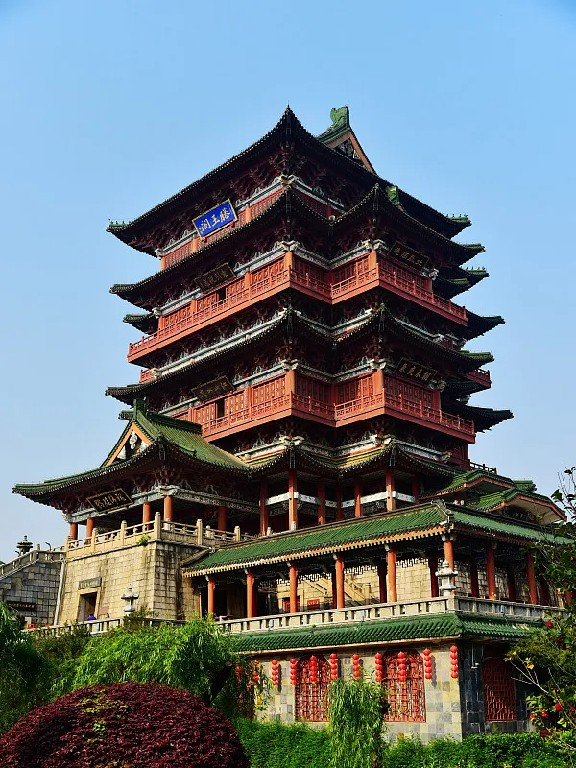Teng: (14, 105, 576, 632)
